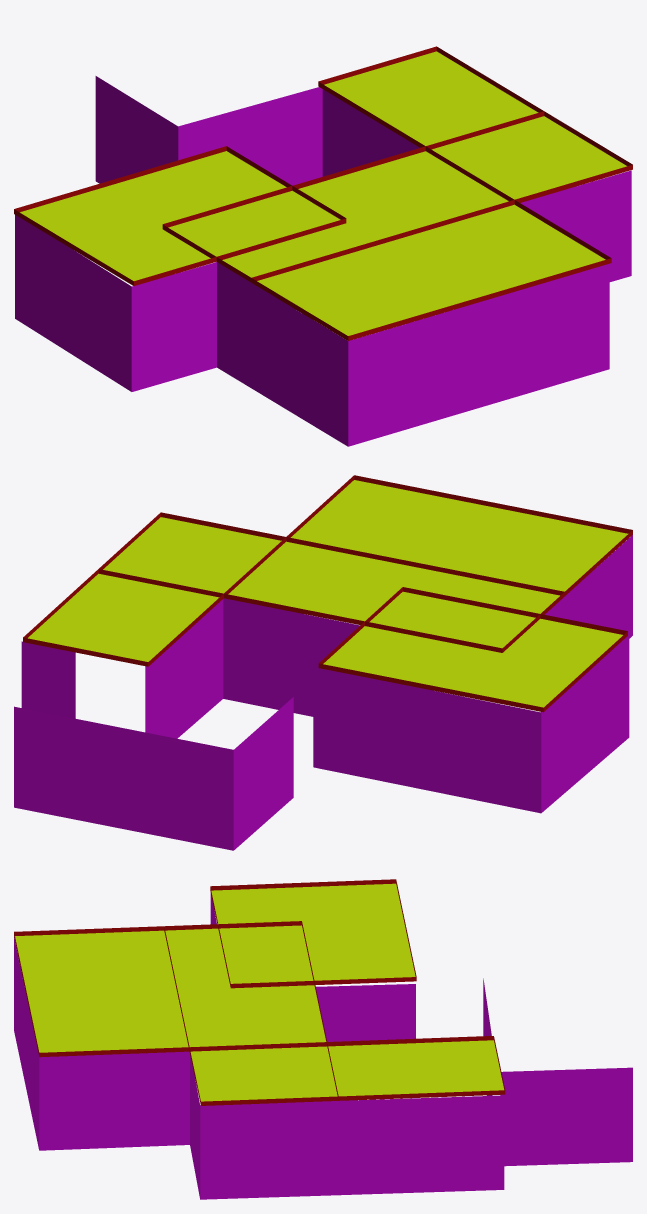
File: bgj_173.glb
The picture shows the model from 3 angles, top to bottom: view 1: azimuth 30°, elevation 25°; view 2: azimuth 150°, elevation 25°; view 3: azimuth 270°, elevation 25°; orthographic projection. The views are drawn at different scales.
Parts seen in each view (by area): view 1: bgj_173; view 2: bgj_173; view 3: bgj_173.
Boxes of the visible parts, bbox=[...] form: bgj_173: bbox=[14, 46, 632, 446]; bgj_173: bbox=[14, 475, 632, 850]; bgj_173: bbox=[14, 879, 632, 1199].
Bounding box in the file's own units: 37.83 × 7.84 × 44.51.
